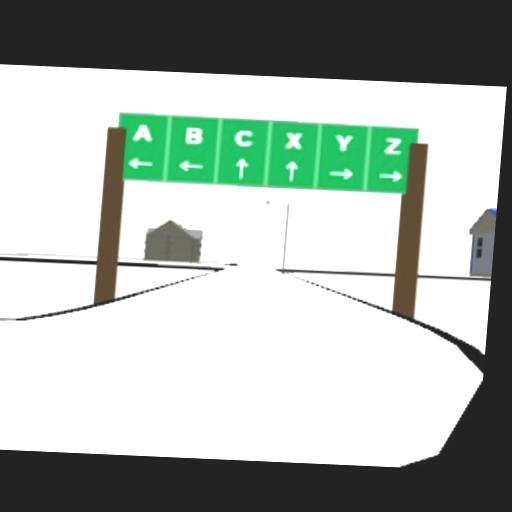A: (132, 122, 156, 143)
B: (184, 126, 205, 146)
C: (232, 129, 255, 148)
Left: (127, 156, 153, 172), (178, 158, 204, 172)
Right: (328, 166, 354, 181), (377, 168, 403, 183)
Straight: (283, 160, 300, 183), (233, 158, 249, 181)
X: (284, 131, 303, 150)
Y: (333, 133, 354, 152)
Z: (384, 136, 403, 156)
